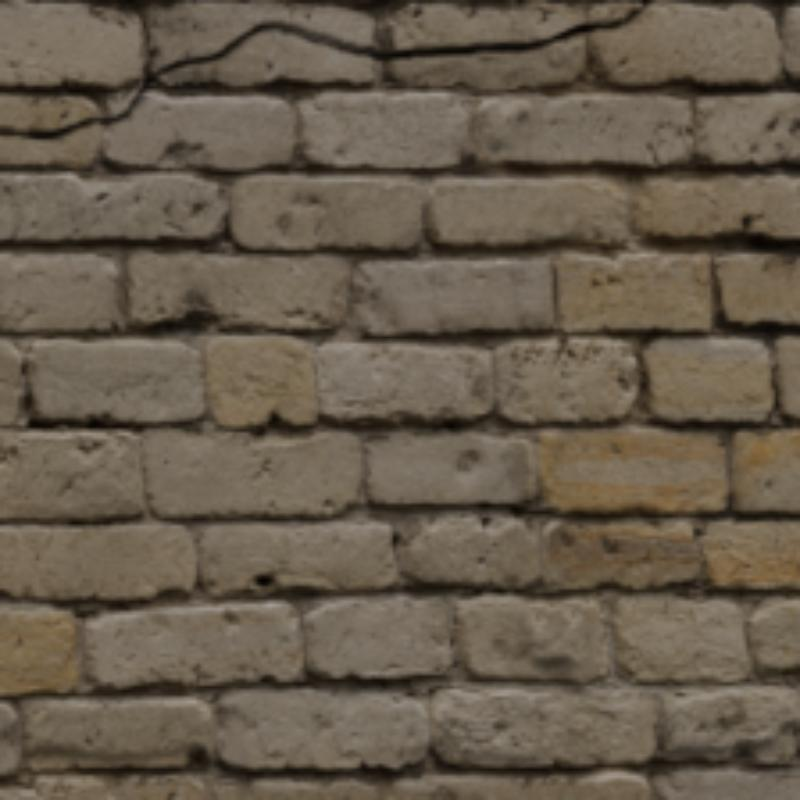crack: (0, 0, 650, 136)
